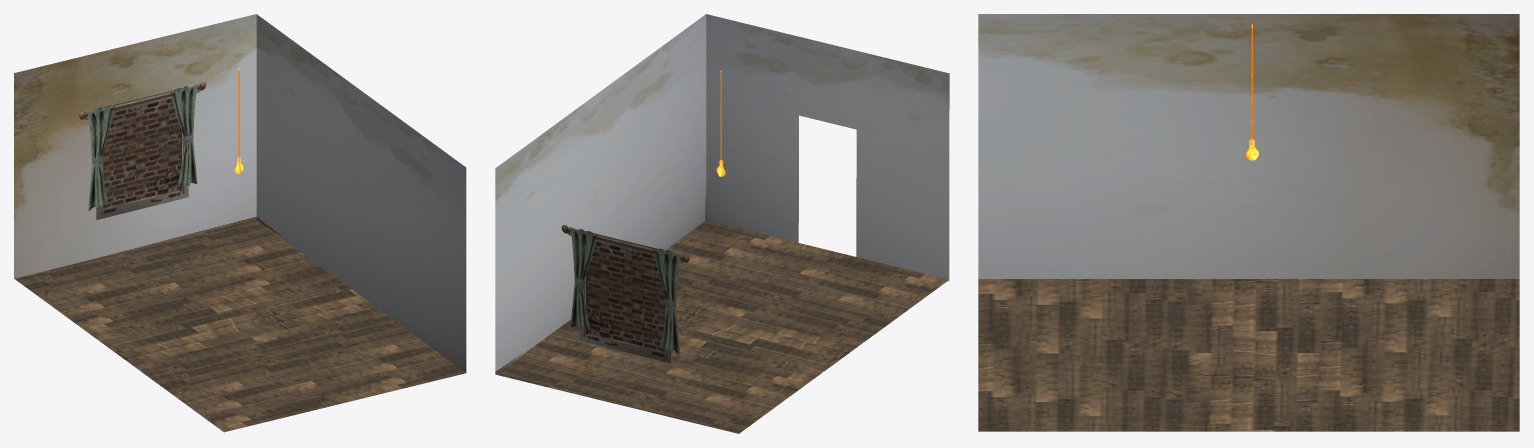
The model's file is soba.glb.
3 renders of one model, left to right at view 1: azimuth 30°, elevation 25°; view 2: azimuth 150°, elevation 25°; view 3: azimuth 270°, elevation 25°, orthographic. The views are drawn at different scales.
Visible parts, largest first — view 1: Cube; view 2: Cube, Cube.001; view 3: Cube.
Boxes of the visible parts, x1,y1,x2,y2 form: Cube: (14,14,466,432); Cube: (495,14,948,433); Cube.001: (706,14,949,280); Cube: (978,14,1519,431).
Size of the model in its own units: 2 by 2.04 by 3.
Materials: 3 (3 with a texture image).
